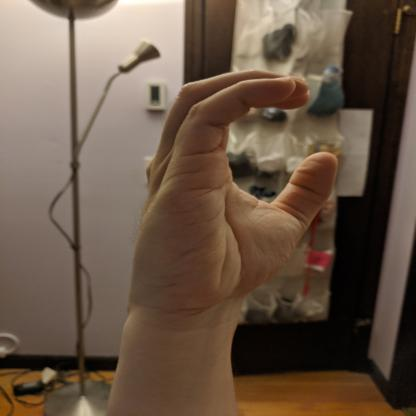C: (121, 66, 345, 325)
